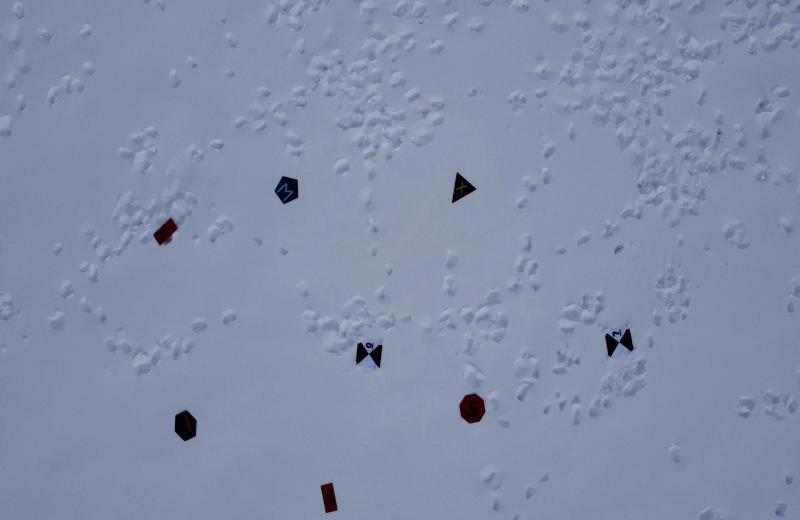Hexagon: (171, 407, 201, 444)
Octagon: (457, 391, 488, 428)
Pentagon: (270, 173, 303, 209)
Rectangle: (151, 213, 181, 247), (317, 479, 342, 517)
Triangle: (448, 167, 480, 208)
